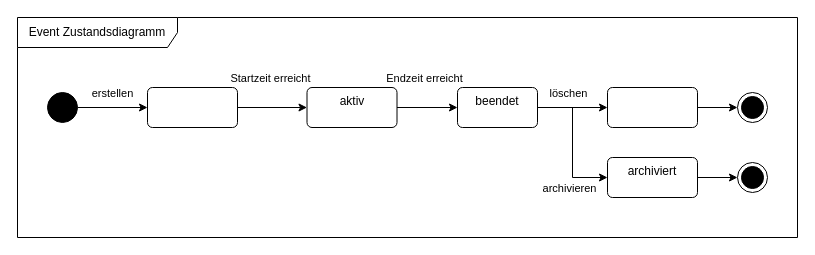
This 815x255 diagram has some shape labels left out. Each missing label, with the centre of its shape:
"erstellt" belongs at point 192,107.
"gelöscht" belongs at point 652,107.
